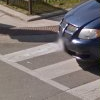crosswalk: (1, 42, 100, 100)
